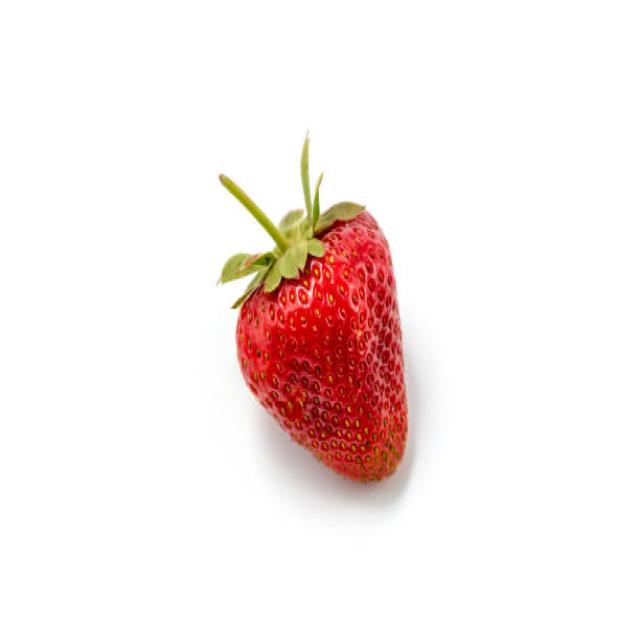Healthy Fruit: (235, 204, 409, 482)
